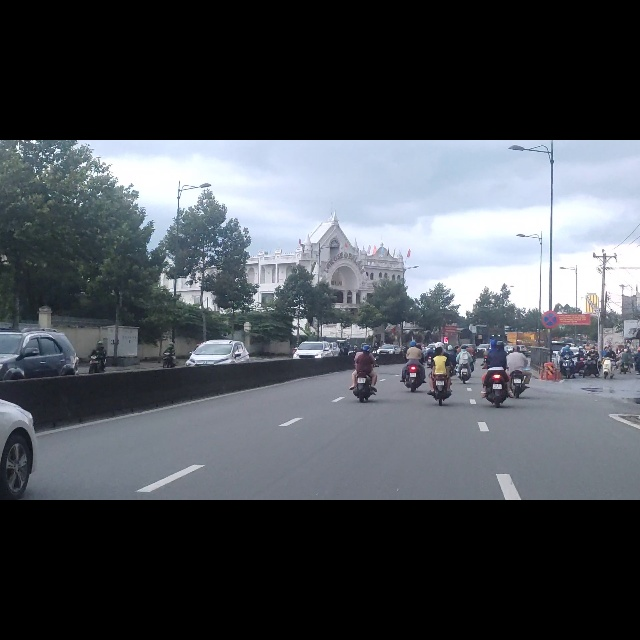bien_cam: (541, 303, 559, 334)
